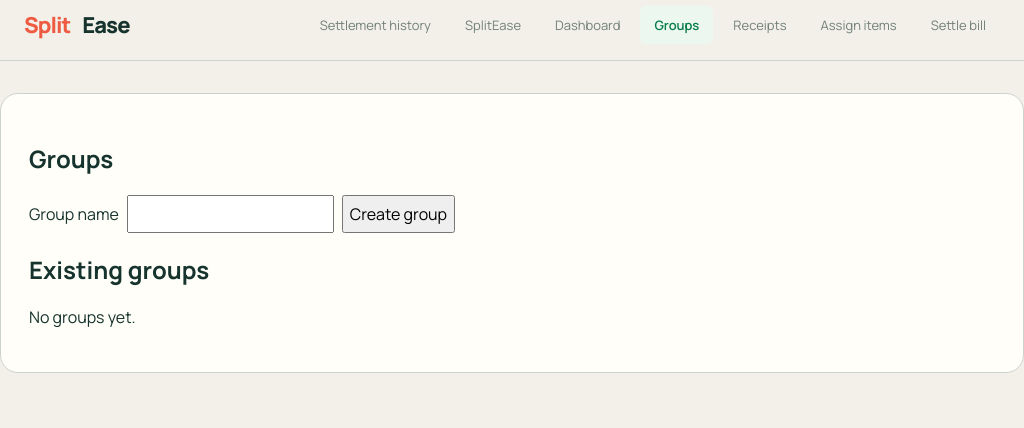
Scenario: groups page › keeps entered fields when creation fails
Check: the text "No groups yet." is shown, box [29,306,136,328]
In the field labelled "Group name": (230, 214) [127,195,334,233], type "Trip"
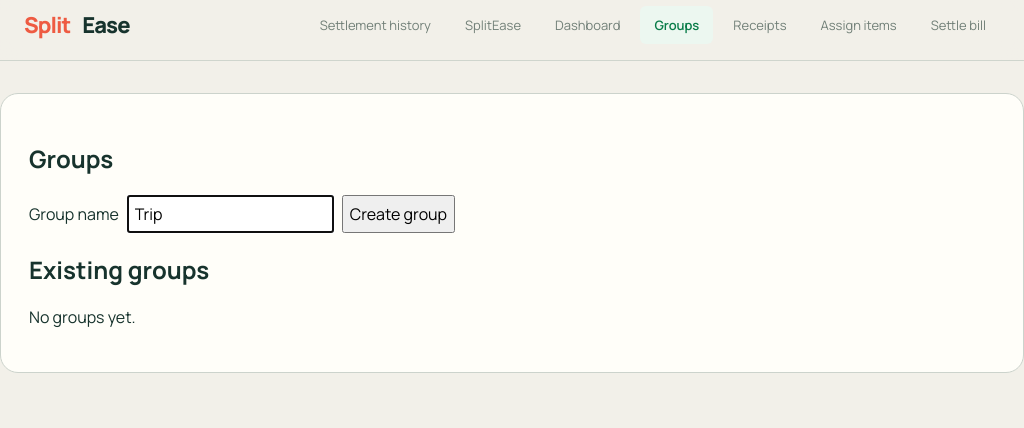
Click the button "Create group": (398, 214) [342,195,455,233]
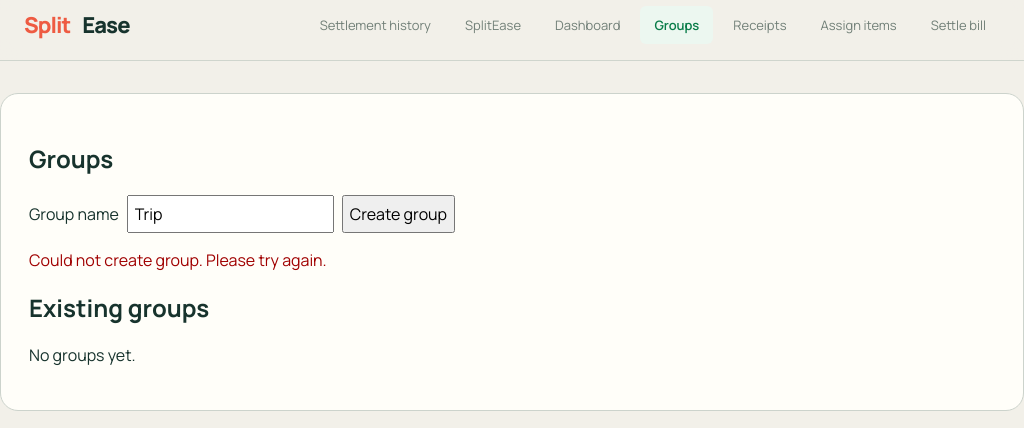
Check: the message shows "Could not create", box [29,249,327,271]
